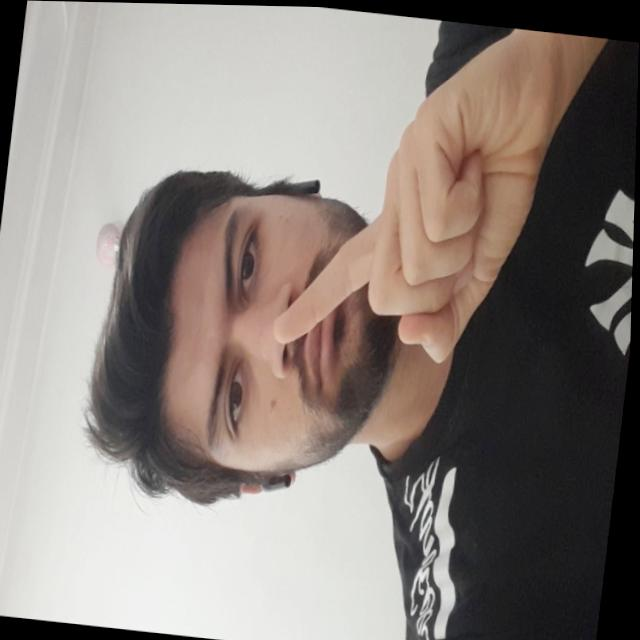Head: (72, 135, 425, 521)
One: (268, 5, 578, 380)
